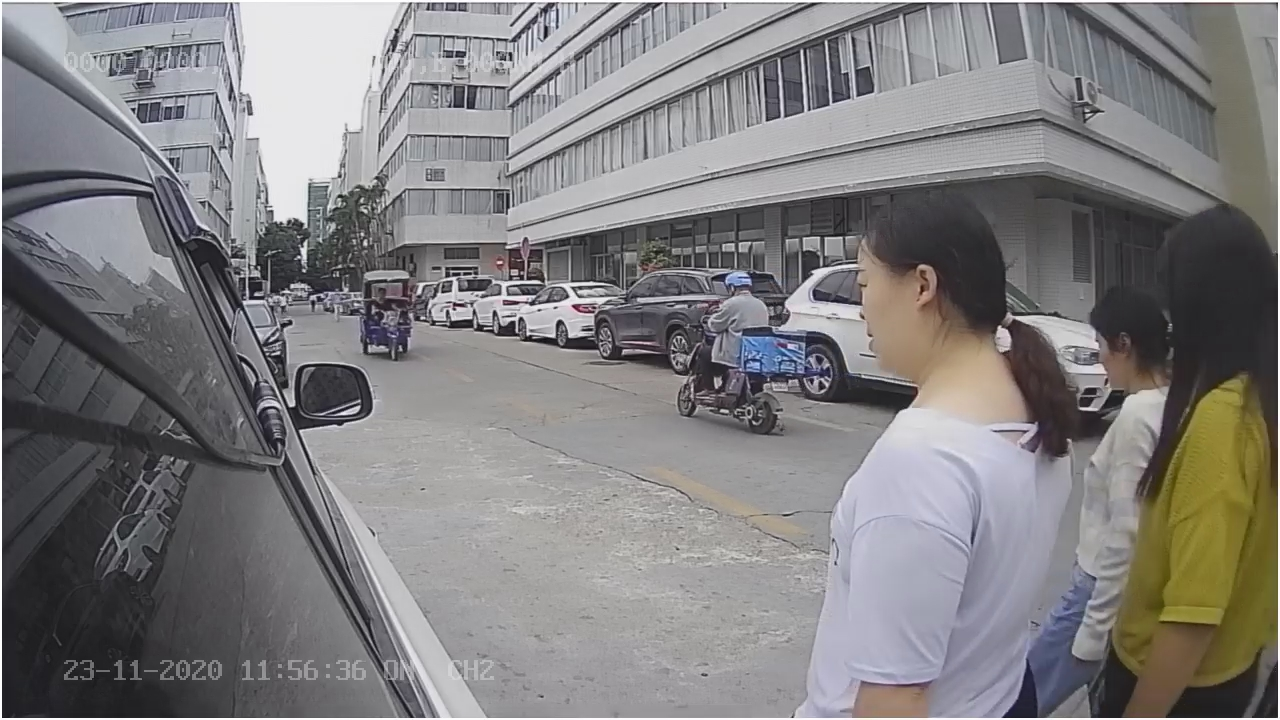person: (815, 192, 1067, 712)
